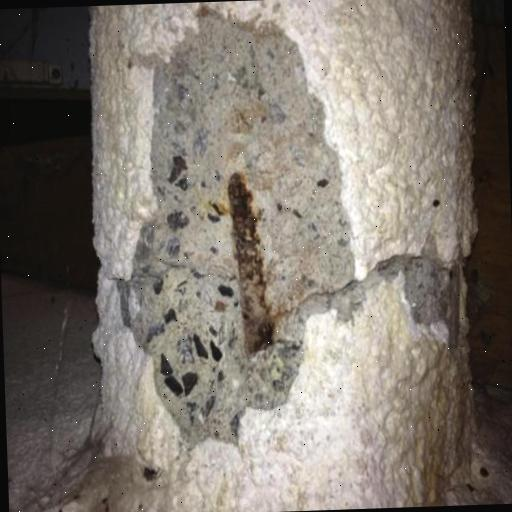spalling: (108, 18, 455, 449)
